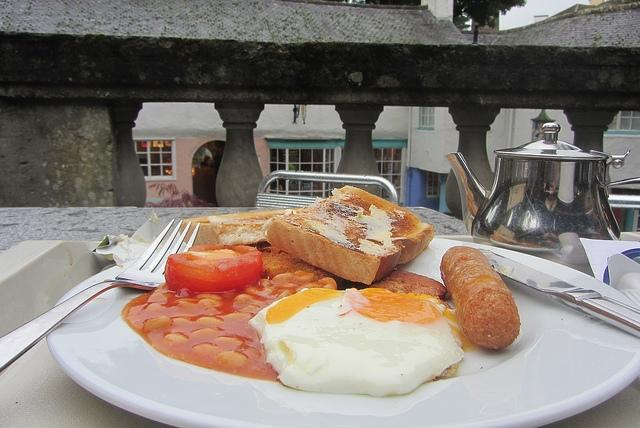tomato: (164, 245, 262, 295)
